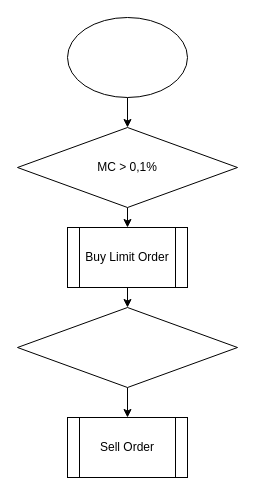
This 255x495 diagram has some shape labels left out. The centre of each missing label's shape, as x and y in pixels:
Sell MFI Sell RSI Sell StochRSI: point 127,347
Start Middle-UP: point 127,57
